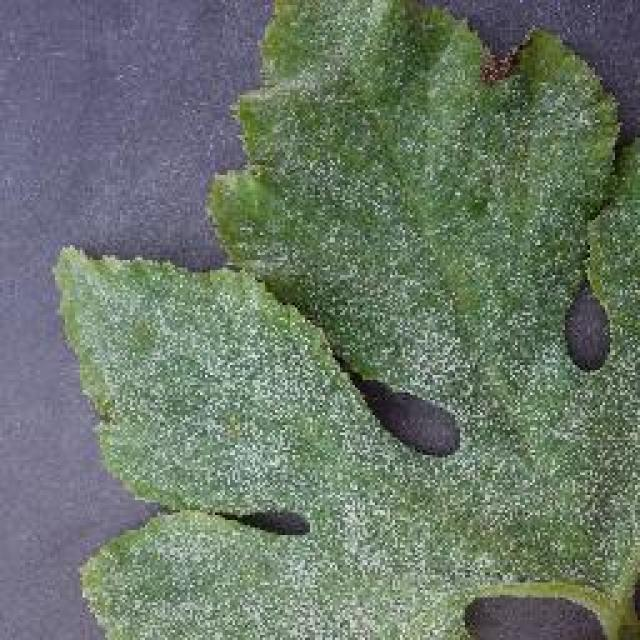Squ_Powdery_mildew: (152, 75, 608, 587)
